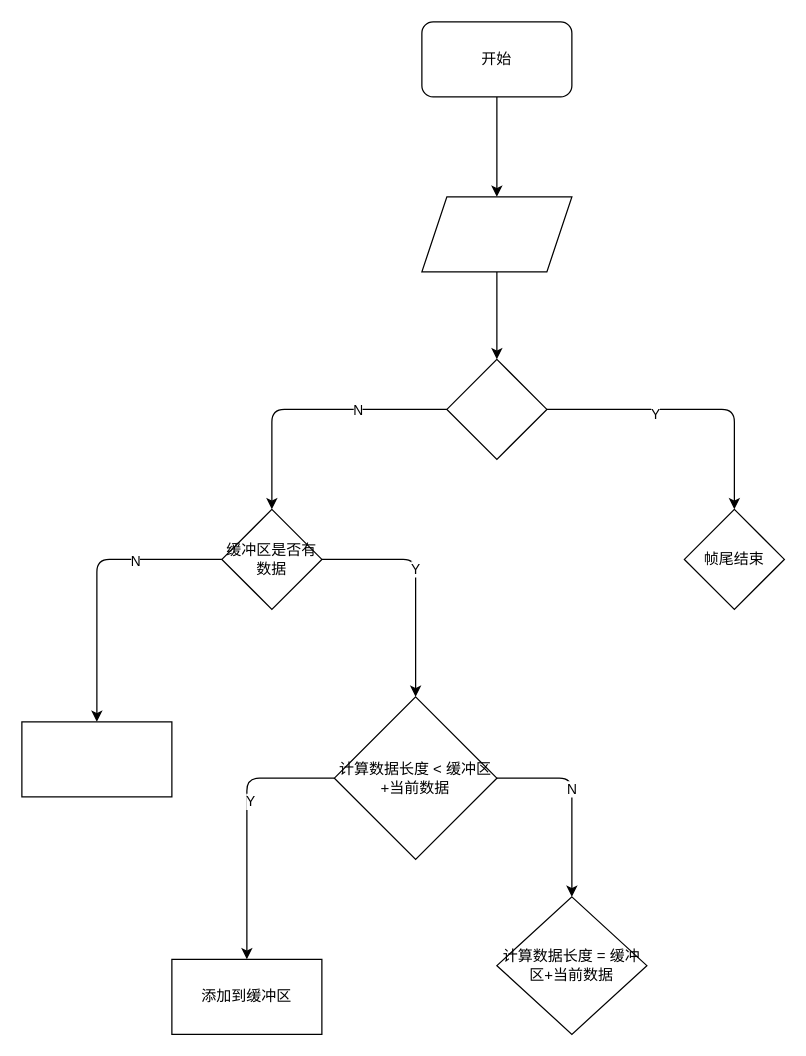
This 806x1056 diagram has some shape labels left out. The shapes that lost their labels are listed below. From the top down, each one's centre as x and y in pixels, then its label:
the point at 496,234: 输入数据
the point at 496,408: 帧头开始
the point at 96,759: 作为起始帧，存入缓冲区
